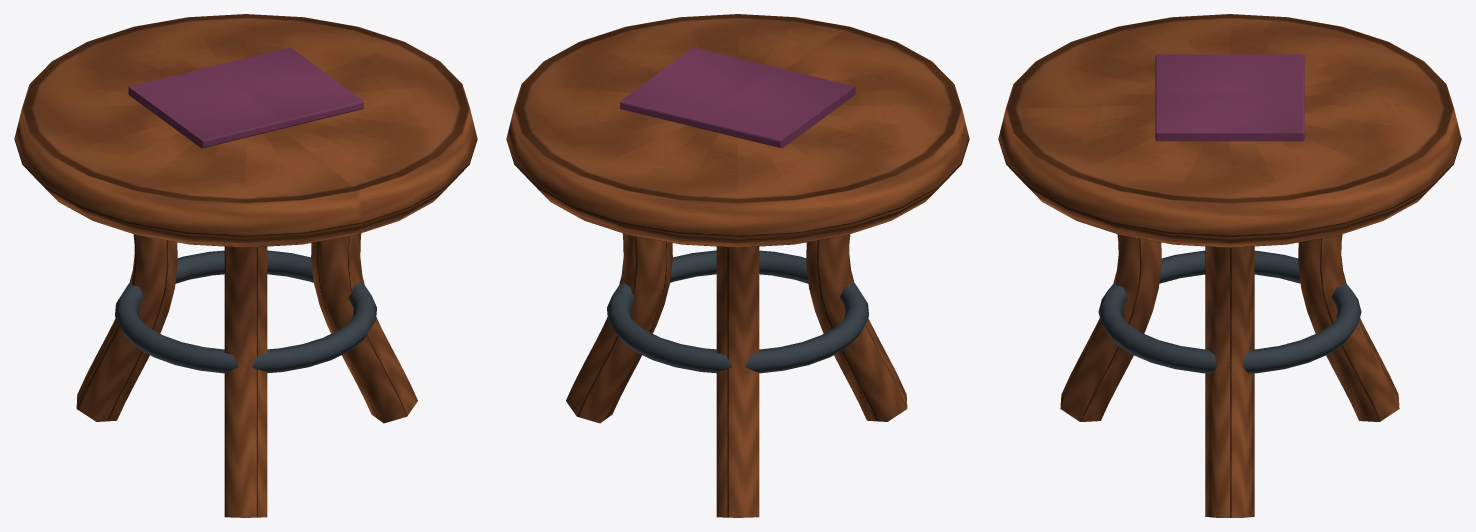
File: hollowwick-halloween-turned-witch-stool-b8e4753e__21654.glb
The picture shows the model from 3 angles, left to right: view 1: azimuth 30°, elevation 25°; view 2: azimuth 150°, elevation 25°; view 3: azimuth 270°, elevation 25°; orthographic projection.
Parts seen in each view (by area): view 1: turned-witch-stool; view 2: turned-witch-stool; view 3: turned-witch-stool.
Part boxes in pixels (box(x1,y1,x2,y2)): turned-witch-stool: box(14, 14, 477, 517); turned-witch-stool: box(506, 14, 969, 517); turned-witch-stool: box(998, 14, 1461, 517).
Size of the model in its own units: 0.62 by 0.5293 by 0.62.
Materials: 3 (2 with a texture image).
